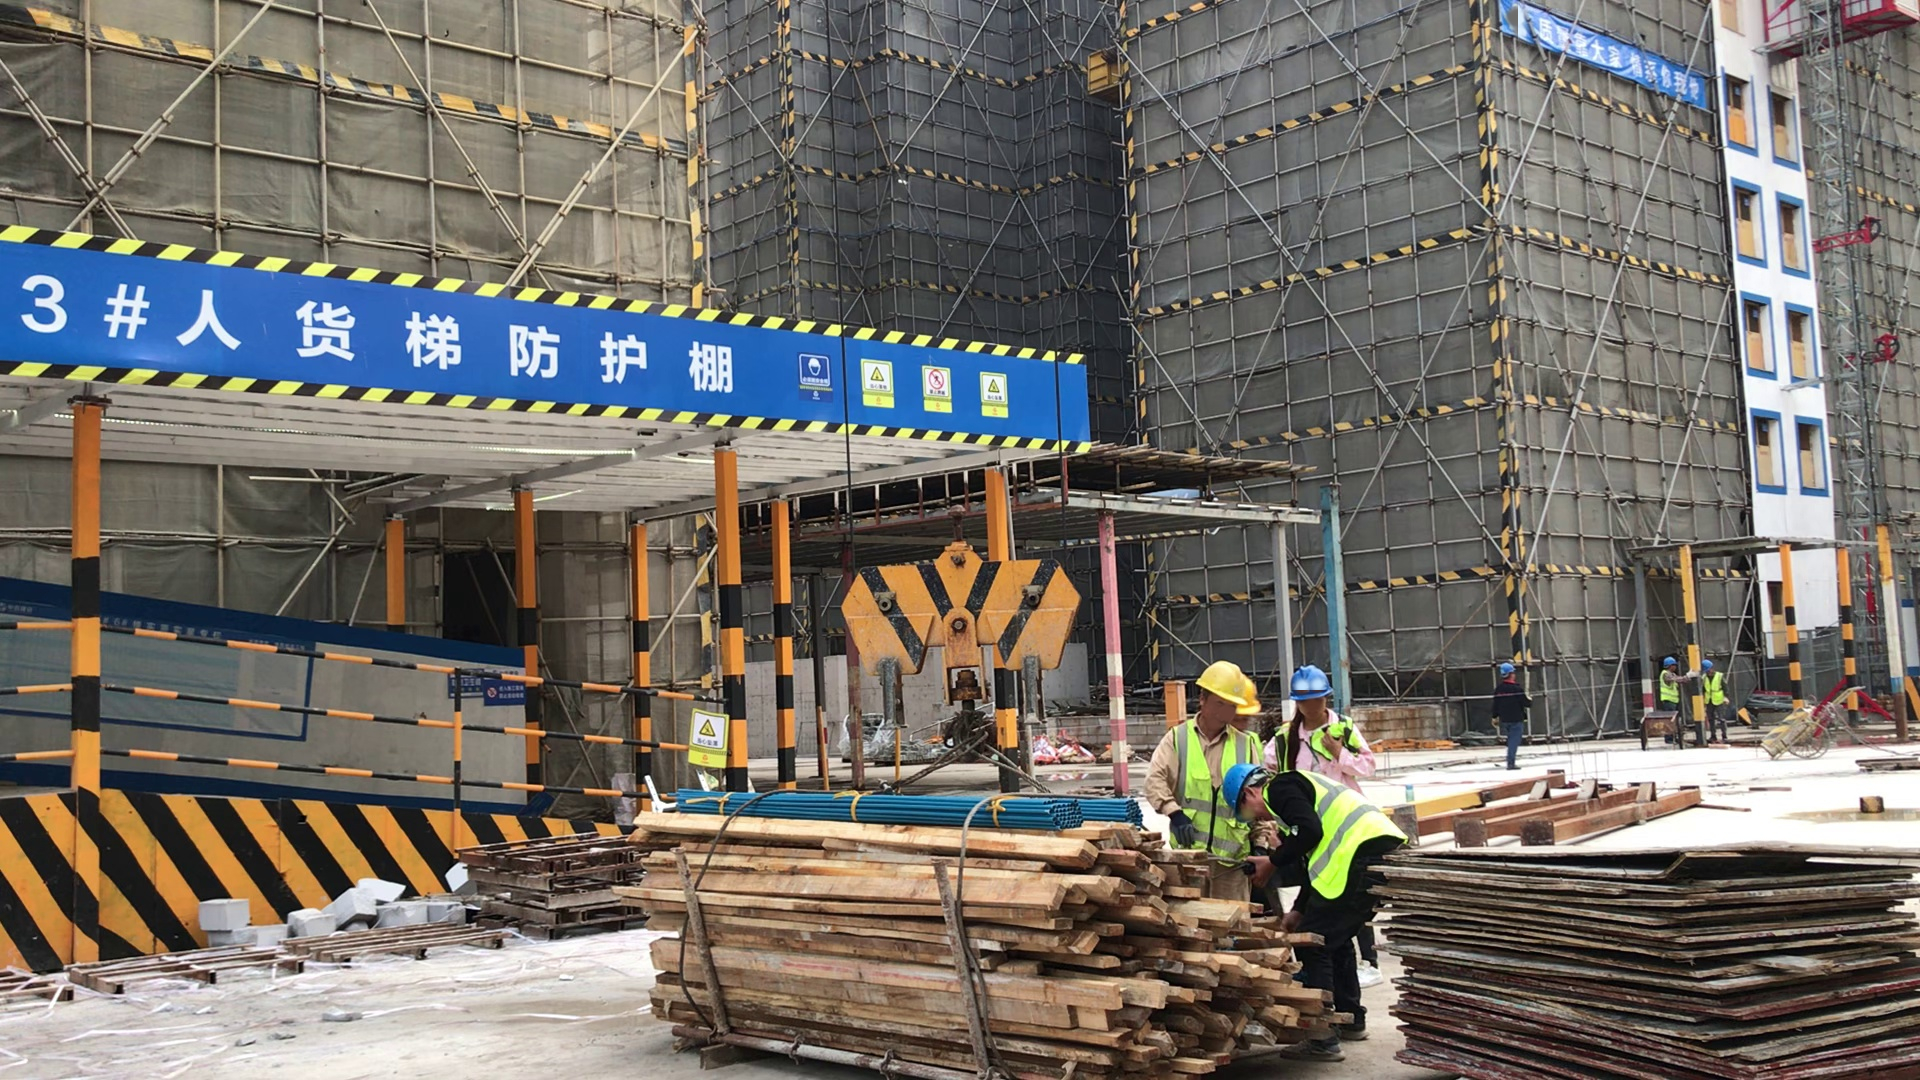helmet: (1191, 662, 1246, 704), (1285, 666, 1333, 701), (1219, 764, 1248, 815), (1496, 663, 1514, 676), (1700, 661, 1714, 671), (1661, 657, 1675, 667)
person: (1225, 759, 1412, 1036), (1146, 660, 1260, 859), (1262, 671, 1401, 810), (1492, 664, 1534, 767), (1700, 660, 1730, 746), (1655, 657, 1689, 706)
vest: (1265, 771, 1400, 885), (1173, 715, 1250, 850), (1701, 671, 1725, 704), (1659, 670, 1679, 700)
